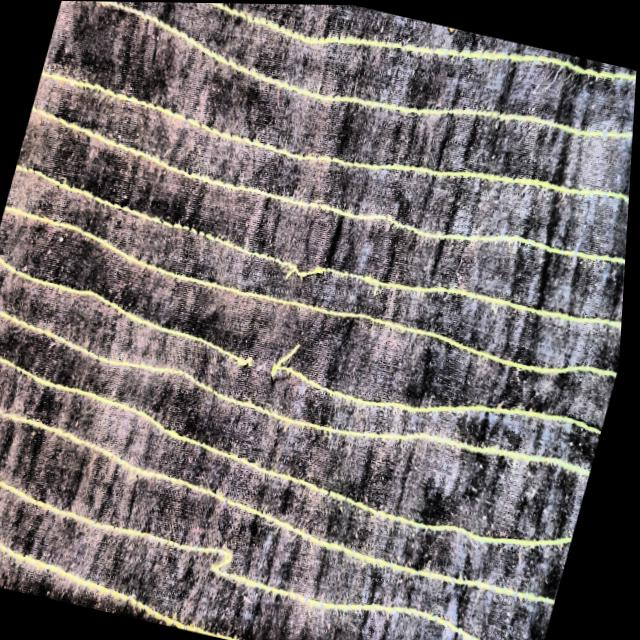Stitch: (227, 312, 318, 397), (273, 230, 342, 306), (200, 521, 253, 601)
